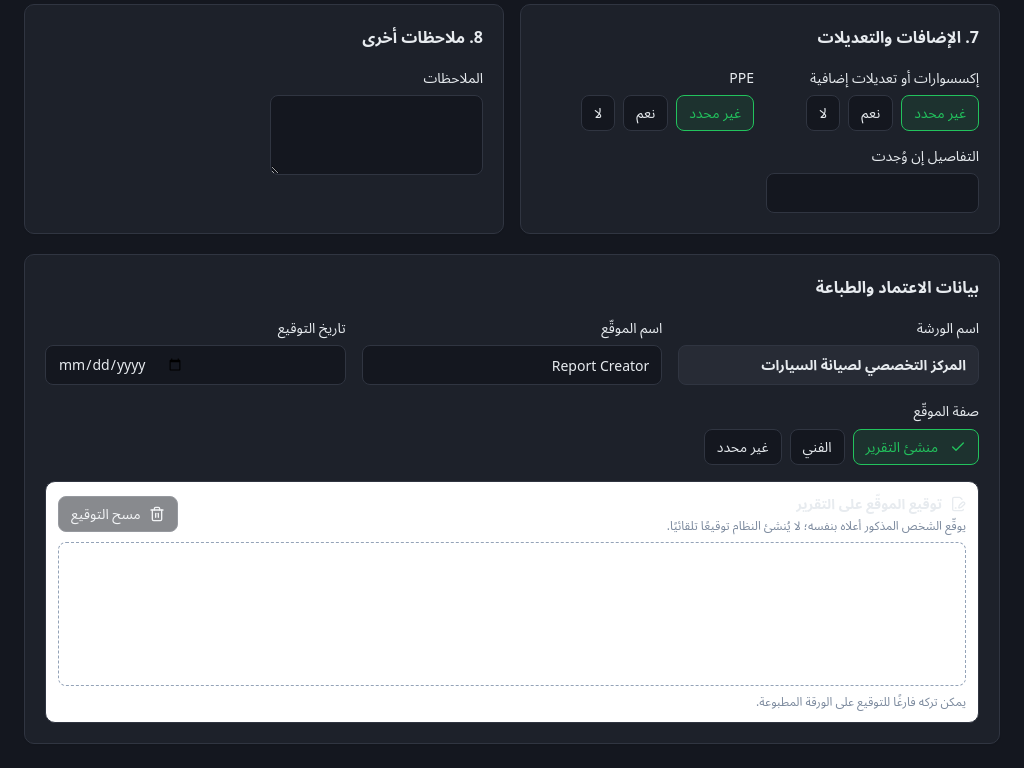
Test case: vehicle technical declaration page › uses the linked work-order technician when selected
(page scrolled)
Expected: the field showing "Report Creator" is shown, [362,345,662,385]
Click the button "الفني" at x=817, y=447, box [790,429,845,465]
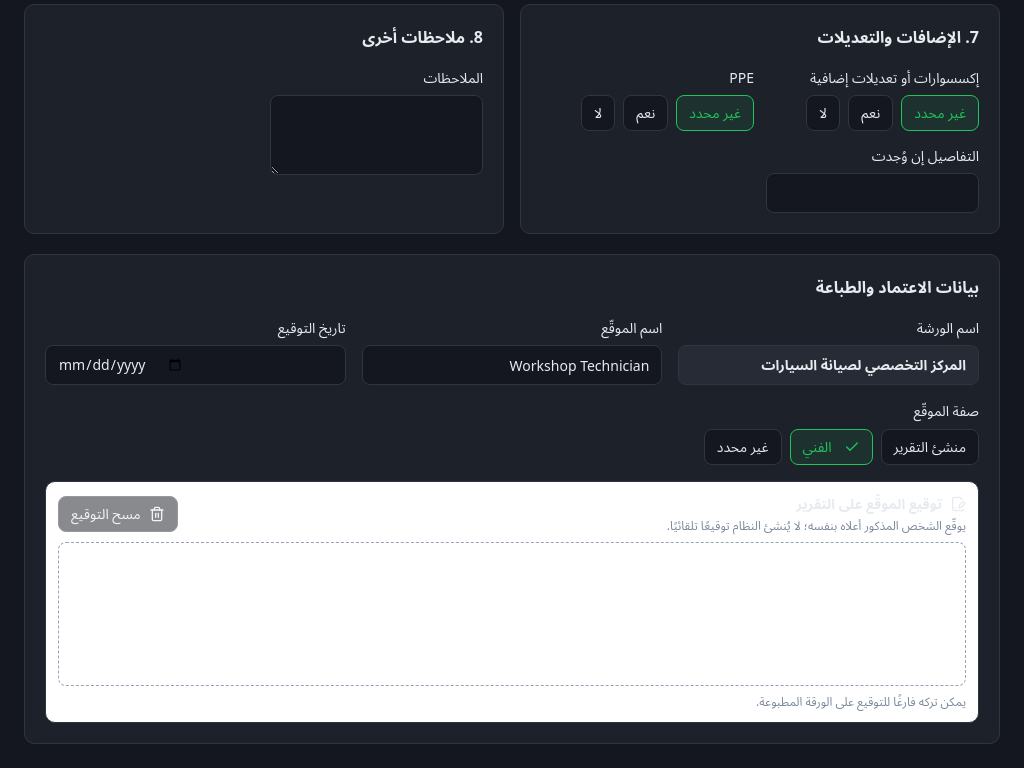
Now the field showing "Workshop Technician" is shown, box [362,345,662,385]
